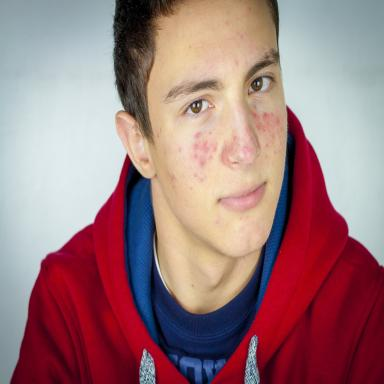acne: (200, 141, 209, 153), (194, 143, 198, 151), (199, 159, 204, 165), (195, 133, 201, 138), (171, 174, 175, 181), (263, 113, 267, 119), (194, 153, 198, 158), (213, 146, 217, 151), (251, 113, 256, 117), (253, 105, 257, 109), (265, 143, 269, 147), (257, 126, 260, 131), (194, 173, 197, 177), (209, 155, 212, 159), (190, 186, 193, 190), (276, 120, 279, 124), (234, 136, 236, 141), (227, 159, 229, 163), (200, 179, 203, 181), (179, 149, 181, 152), (274, 151, 276, 154), (217, 222, 218, 224), (240, 217, 241, 219), (266, 156, 267, 157)
